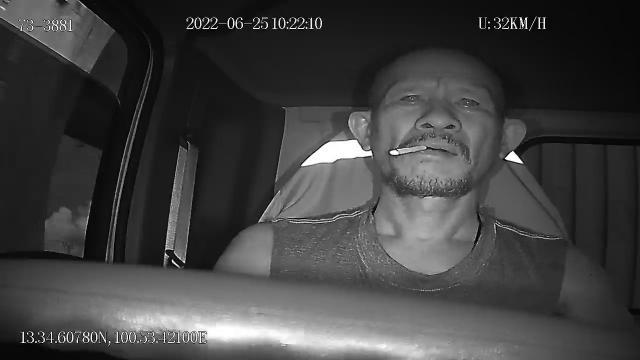SafeDriving: (448, 87, 488, 115), (390, 86, 430, 112)
Smoking: (388, 144, 426, 158)
